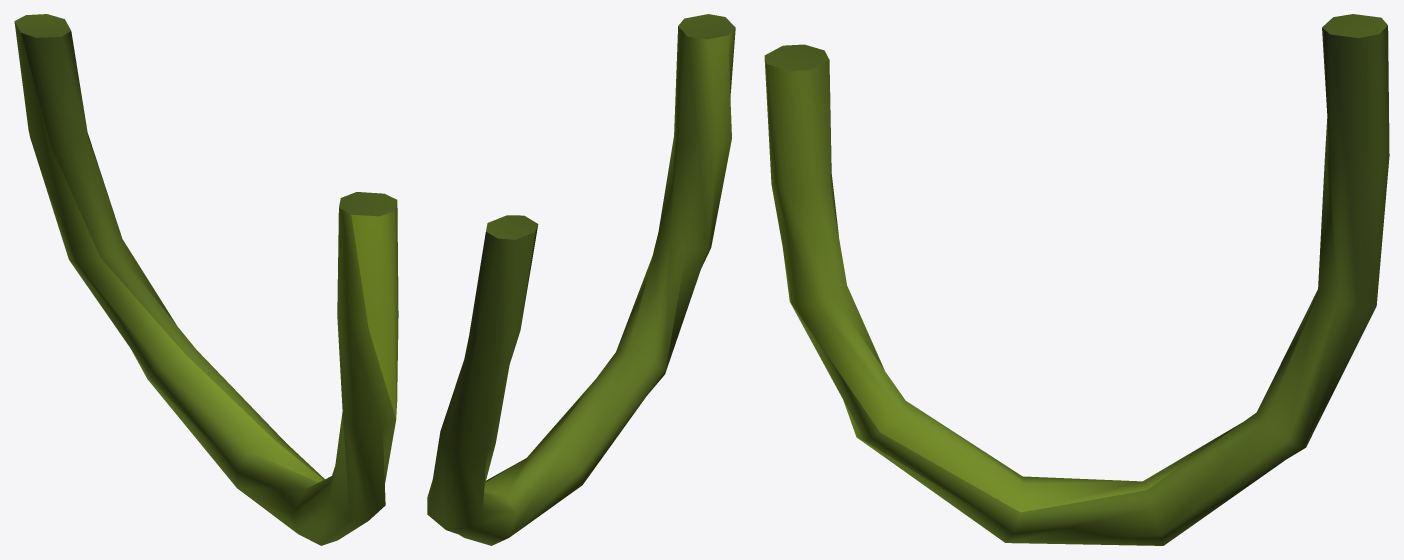
File: vine_horizontal_curve_small_green_LOD_group.fbx
The picture shows the model from 3 angles, left to right: view 1: azimuth 30°, elevation 25°; view 2: azimuth 150°, elevation 25°; view 3: azimuth 270°, elevation 25°; orthographic projection. The views are drawn at different scales.
Visible parts, largest first — view 1: vine_horizontal_curve_small_green_LOD0; view 2: vine_horizontal_curve_small_green_LOD0; view 3: vine_horizontal_curve_small_green_LOD0.
Boxes of the visible parts, x1,y1,x2,y2 form: vine_horizontal_curve_small_green_LOD0: [14, 14, 398, 545]; vine_horizontal_curve_small_green_LOD0: [427, 14, 735, 545]; vine_horizontal_curve_small_green_LOD0: [764, 14, 1389, 545].
Size of what is drawn, in the model's own units: 35.94 by 83.72 by 105.
Materials: 1 (1 with a texture image).
